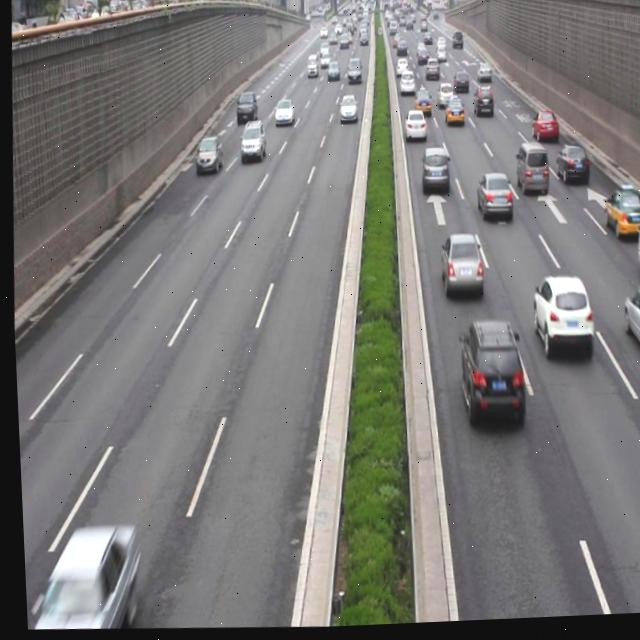car: (452, 323, 523, 434), (525, 277, 589, 366), (435, 236, 481, 304), (599, 191, 640, 244), (471, 174, 511, 228), (615, 286, 640, 365), (416, 148, 448, 200), (554, 145, 585, 189), (236, 119, 266, 164), (193, 136, 221, 175), (528, 111, 555, 149), (234, 92, 259, 126), (472, 87, 492, 124), (402, 110, 424, 143), (441, 99, 463, 131), (336, 96, 356, 127), (271, 99, 292, 128), (434, 84, 453, 111), (412, 91, 430, 117)
truck: (511, 144, 546, 200), (630, 214, 640, 285)
